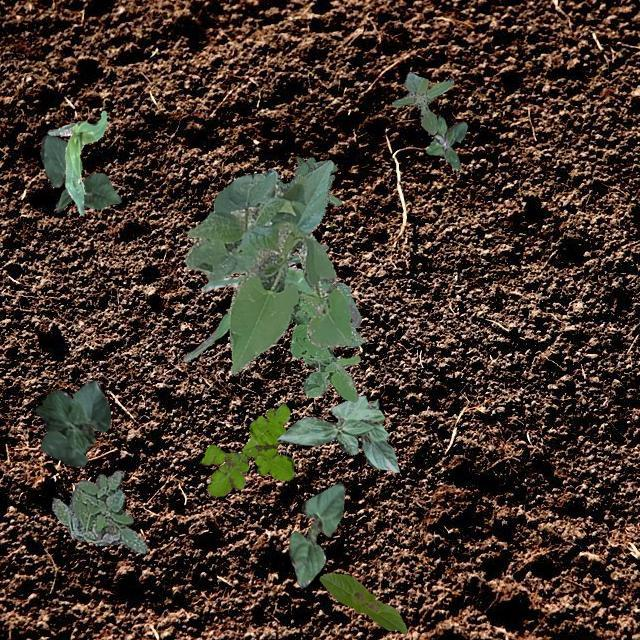crop: (184, 158, 352, 374), (182, 244, 360, 360), (34, 380, 110, 466), (276, 394, 384, 454), (40, 134, 120, 212), (46, 110, 106, 213), (288, 481, 344, 586), (319, 572, 405, 632), (360, 398, 398, 472)
weed: (290, 280, 364, 402), (200, 404, 294, 496), (51, 470, 146, 552), (392, 70, 452, 134), (278, 156, 340, 204), (426, 116, 466, 170)
